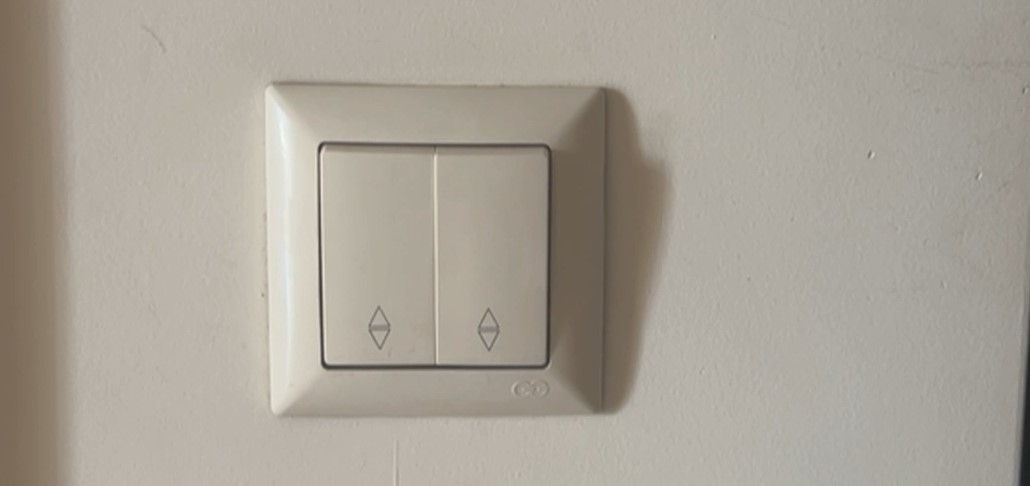Light Switcher: (265, 86, 608, 415)
